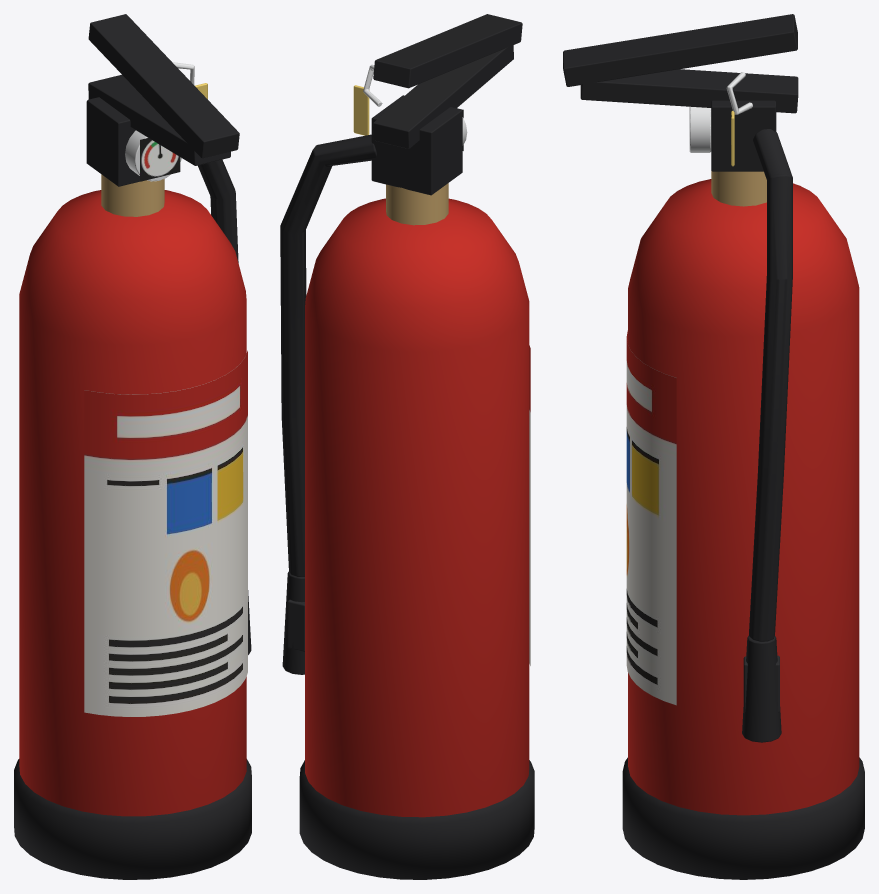
File: extinguisher.glb
The picture shows the model from 3 angles, left to right: view 1: azimuth 30°, elevation 25°; view 2: azimuth 150°, elevation 25°; view 3: azimuth 270°, elevation 25°; orthographic projection. The views are drawn at different scales.
Visible parts, largest first — view 1: extinguisher_cylinder, extinguisher_label, extinguisher_valve, extinguisher_foot, extinguisher_hose; view 2: extinguisher_cylinder, extinguisher_valve, extinguisher_foot, extinguisher_hose, extinguisher_label; view 3: extinguisher_cylinder, extinguisher_valve, extinguisher_hose, extinguisher_label, extinguisher_foot.
Boxes of the visible parts, x1=… form: extinguisher_cylinder: x1=19, y1=190, x2=246, y2=816; extinguisher_label: x1=84, y1=350, x2=247, y2=716; extinguisher_valve: x1=86, y1=14, x2=239, y2=216; extinguisher_foot: x1=14, y1=759, x2=251, y2=879; extinguisher_hose: x1=198, y1=159, x2=251, y2=654; extinguisher_cylinder: x1=305, y1=198, x2=529, y2=817; extinguisher_valve: x1=353, y1=14, x2=522, y2=225; extinguisher_foot: x1=299, y1=760, x2=534, y2=879; extinguisher_hose: x1=280, y1=134, x2=376, y2=674; extinguisher_label: x1=529, y1=345, x2=530, y2=665; extinguisher_cylinder: x1=628, y1=179, x2=859, y2=815; extinguisher_valve: x1=563, y1=14, x2=798, y2=206; extinguisher_hose: x1=742, y1=129, x2=792, y2=742; extinguisher_label: x1=626, y1=330, x2=676, y2=705; extinguisher_foot: x1=622, y1=757, x2=864, y2=879.
Size of the model in its own units: 0.148 by 0.4921 by 0.1669.
8 materials, 2 textured.
